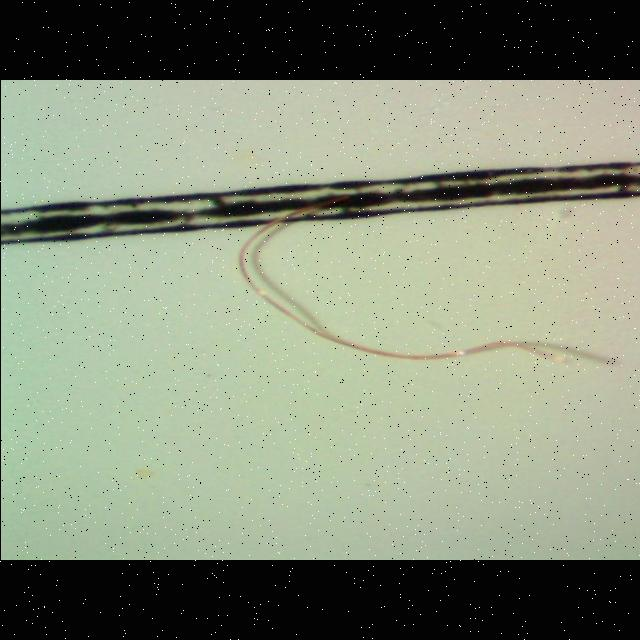Fibre: (225, 187, 620, 376)
